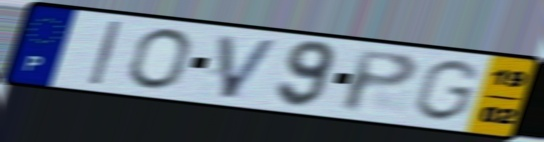9: (272, 38, 338, 112)
G: (409, 58, 484, 124)
I: (86, 18, 126, 88)
O: (125, 26, 194, 93)
P: (339, 47, 422, 115)
V: (215, 31, 284, 101)
